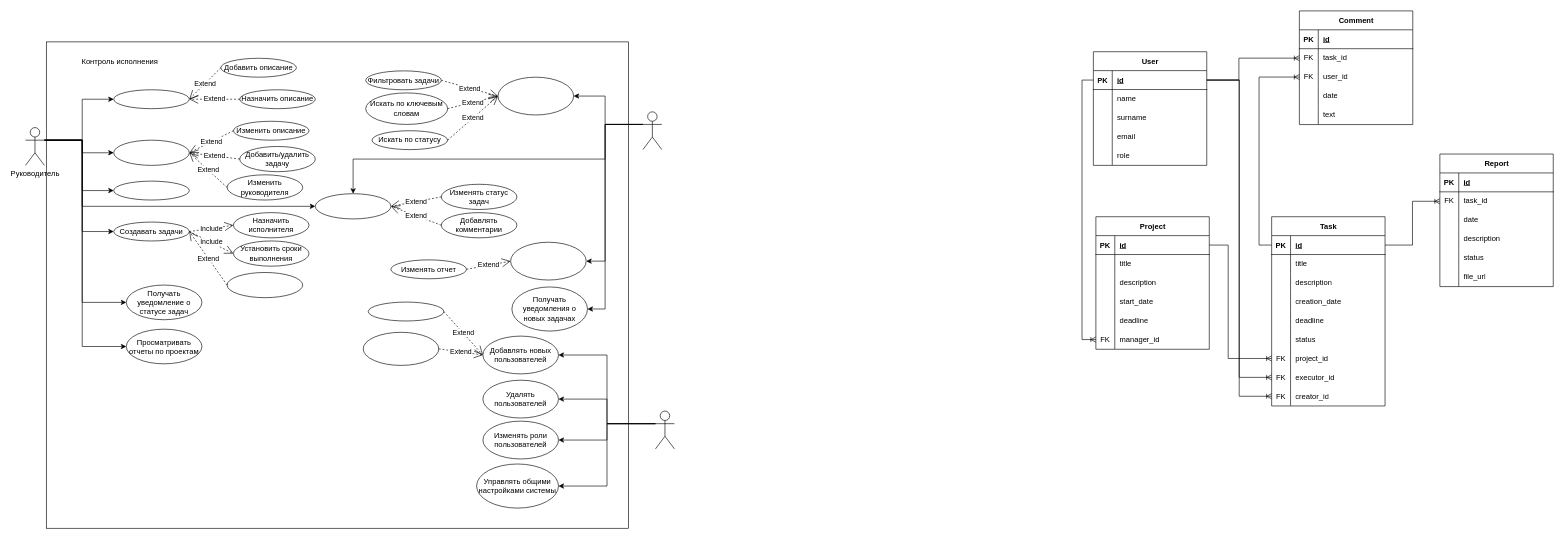
Some shapes in this 1564 by 540 pixel diagram are drawn without their labels. Each missing label, with the centre of its shape:
Администратор: point (664, 429)
Добавлять описание: point (264, 285)
Добавлять отчеты о выполнении: point (548, 261)
Исполнитель: point (652, 130)
Назначать роль: point (406, 311)
Отправлять уведомление о регистрации: point (401, 348)
Просматривать назначенные задачи: point (535, 96)
Редактирование задач: point (353, 206)
Редактирование проектов: point (151, 152)
Создание проектов: point (151, 99)
Удалять проекты: point (151, 190)
